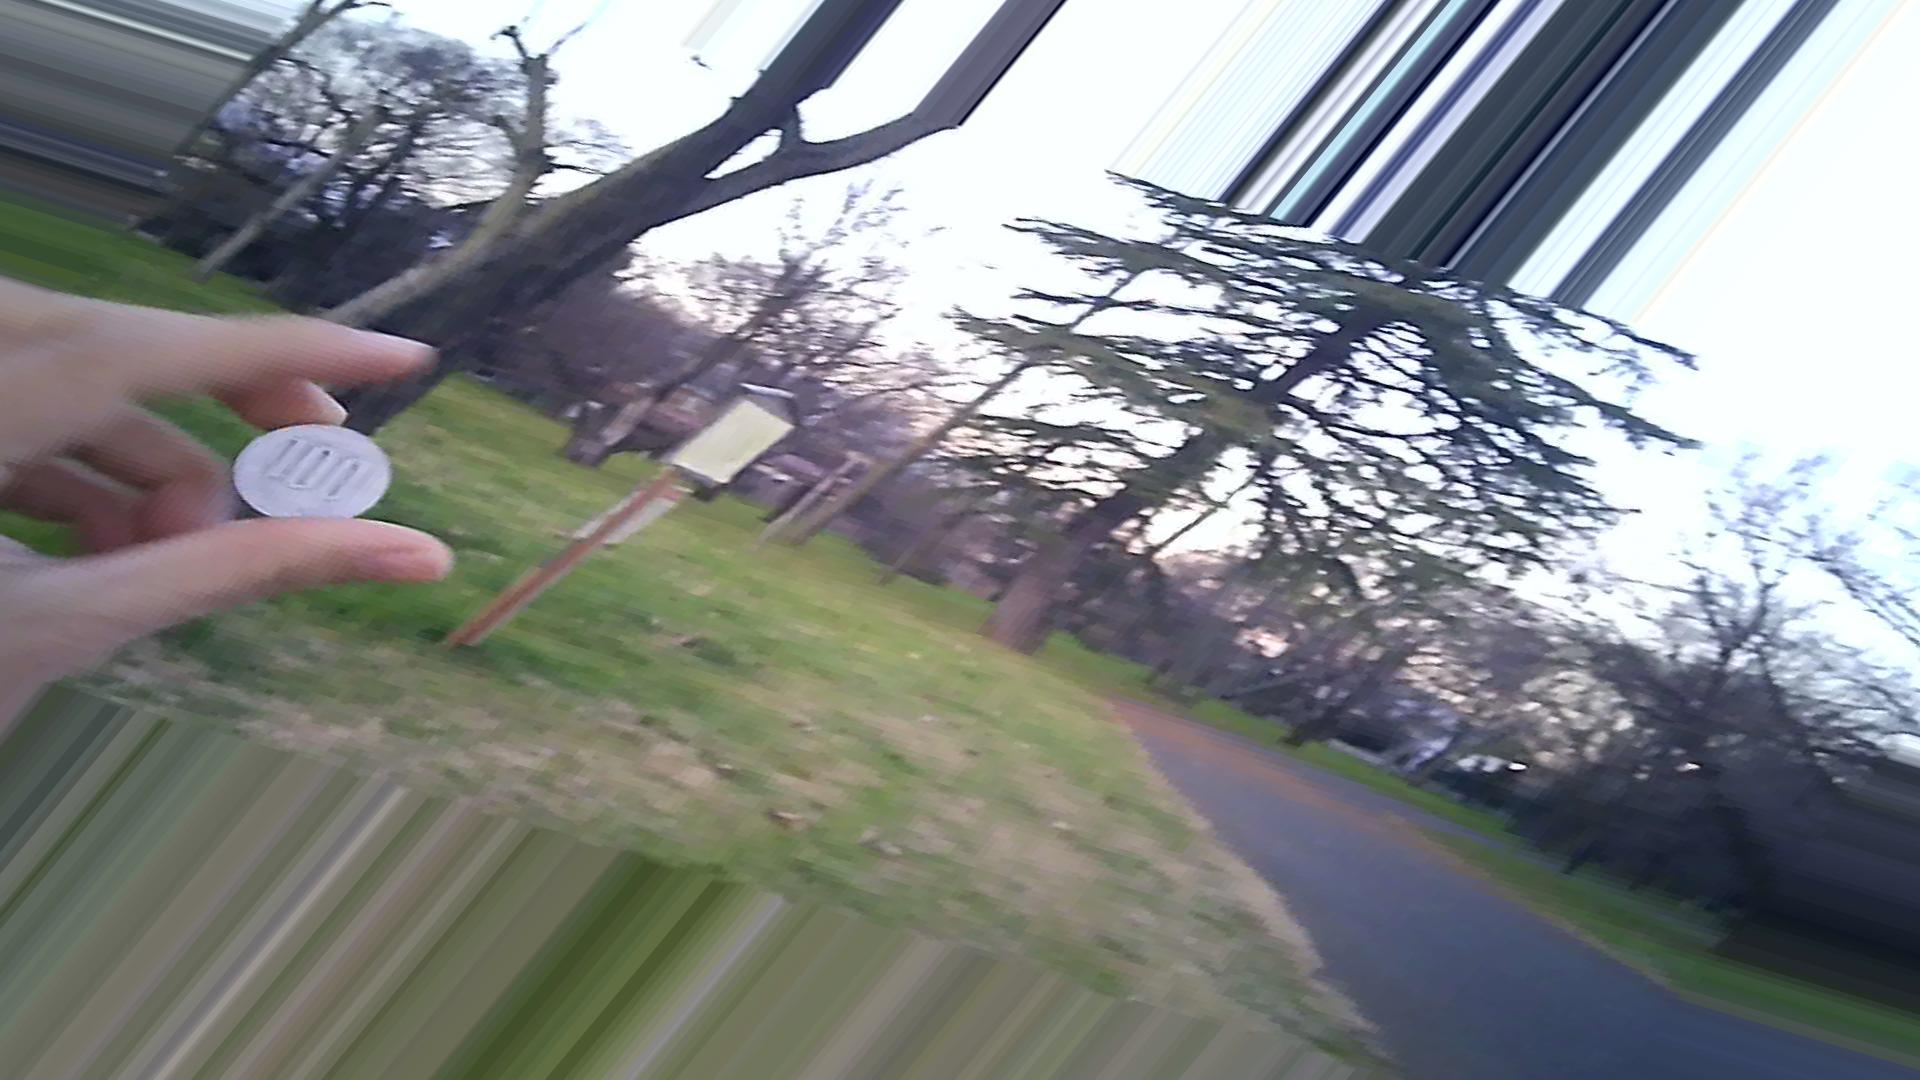100 Yen: (222, 419, 425, 541)
